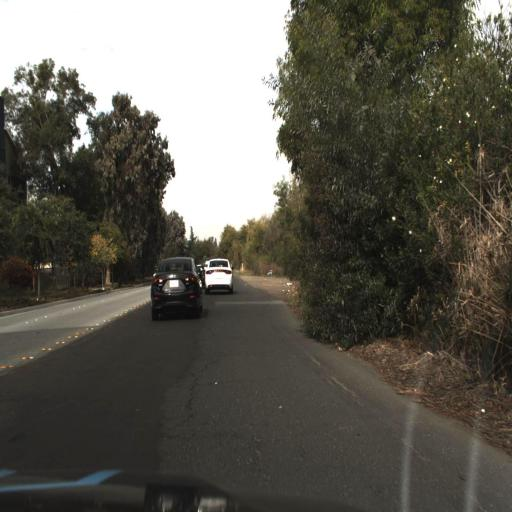car: (146, 247, 208, 335), (199, 242, 236, 296)
